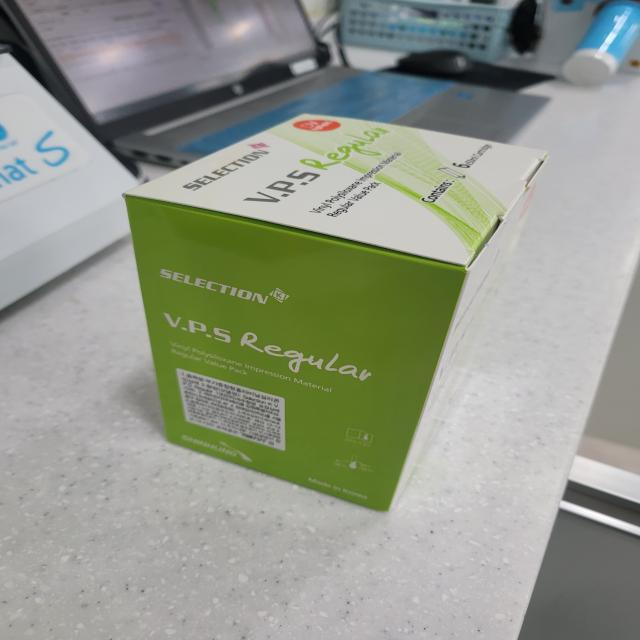impression: (91, 98, 569, 520)
